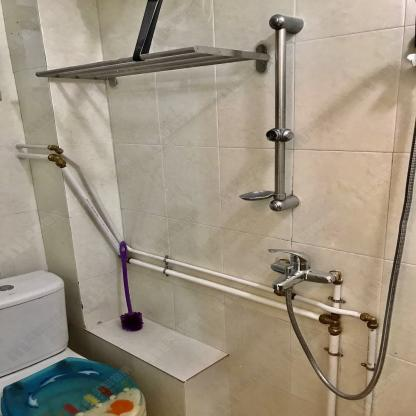Toilet: (0, 268, 145, 416)
